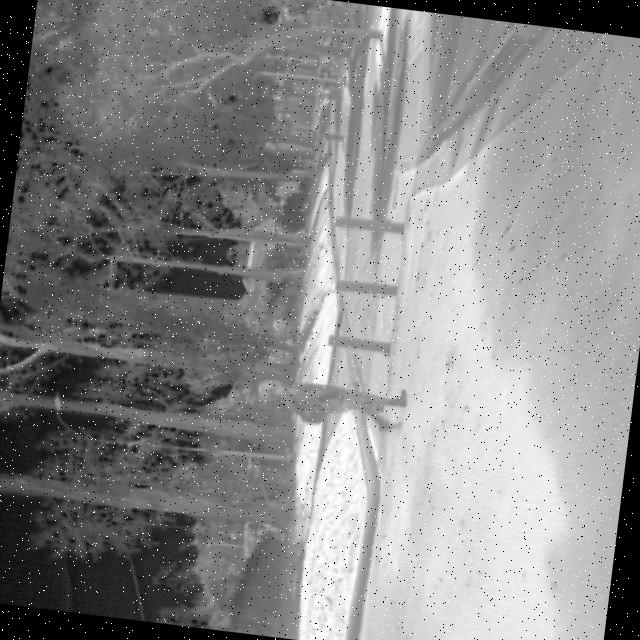Pedestrian: (251, 368, 414, 441)
